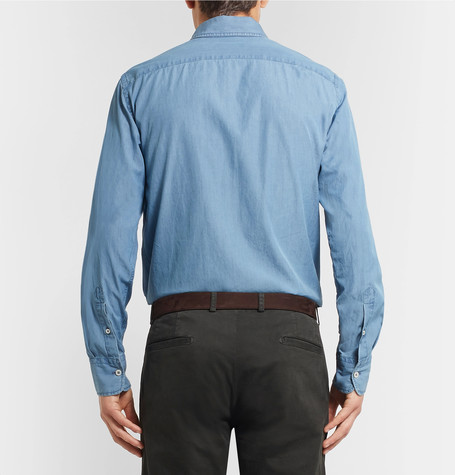F_belt: (132, 287, 334, 315)
F_shirt: (63, 23, 390, 386)
